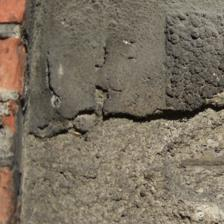Crack: (79, 19, 144, 80), (107, 24, 155, 86)
